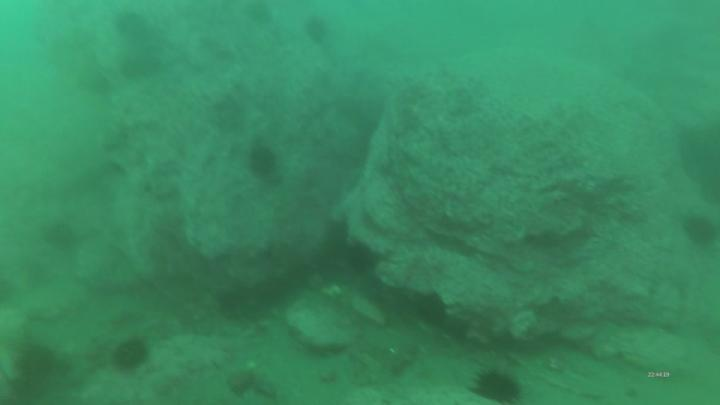echinus: (13, 342, 69, 403), (476, 365, 522, 405), (111, 337, 152, 376), (681, 209, 720, 250), (415, 291, 451, 331), (246, 143, 282, 181), (44, 221, 80, 256), (113, 10, 150, 43), (348, 242, 379, 277), (304, 13, 330, 43)
